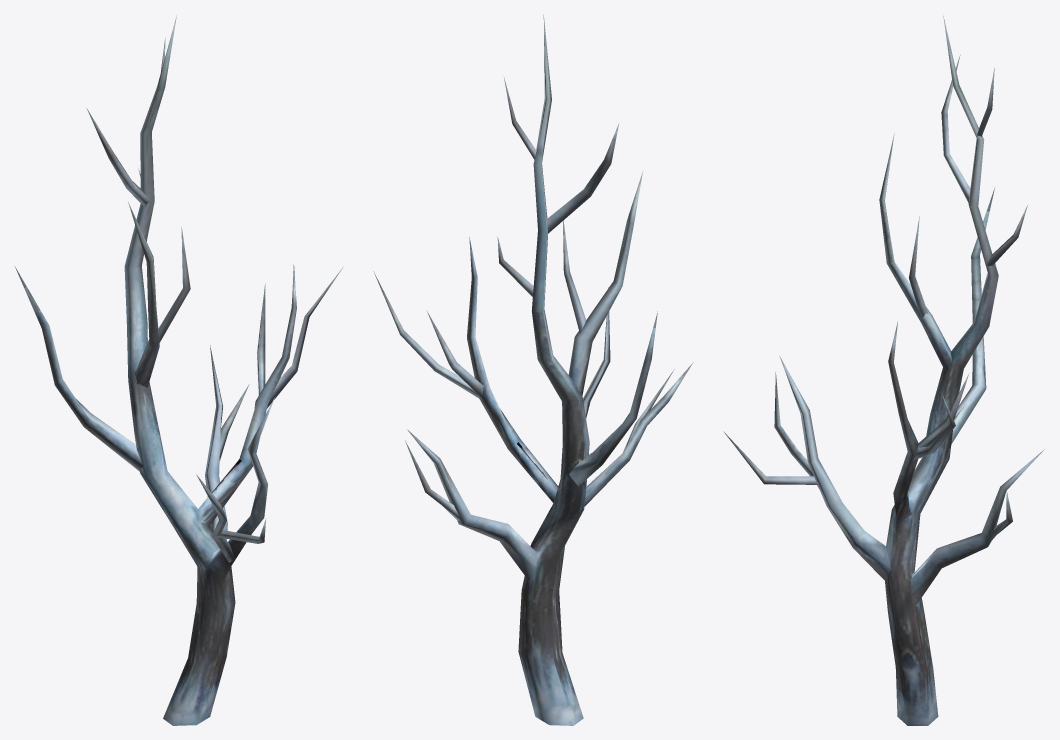
Rendered from LGhuangyuan_shu01.FBX.
The picture shows the model from 3 angles, left to right: view 1: azimuth 30°, elevation 25°; view 2: azimuth 150°, elevation 25°; view 3: azimuth 270°, elevation 25°; orthographic projection. The views are drawn at different scales.
Parts seen in each view (by area): view 1: LGhuangyuan_shu01; view 2: LGhuangyuan_shu01; view 3: LGhuangyuan_shu01.
Part boxes in pixels (<box>): LGhuangyuan_shu01: <box>15,15,343,725</box>; LGhuangyuan_shu01: <box>373,15,693,725</box>; LGhuangyuan_shu01: <box>723,16,1044,725</box>.
Bounding box in the file's own units: 220 × 200 × 480.
